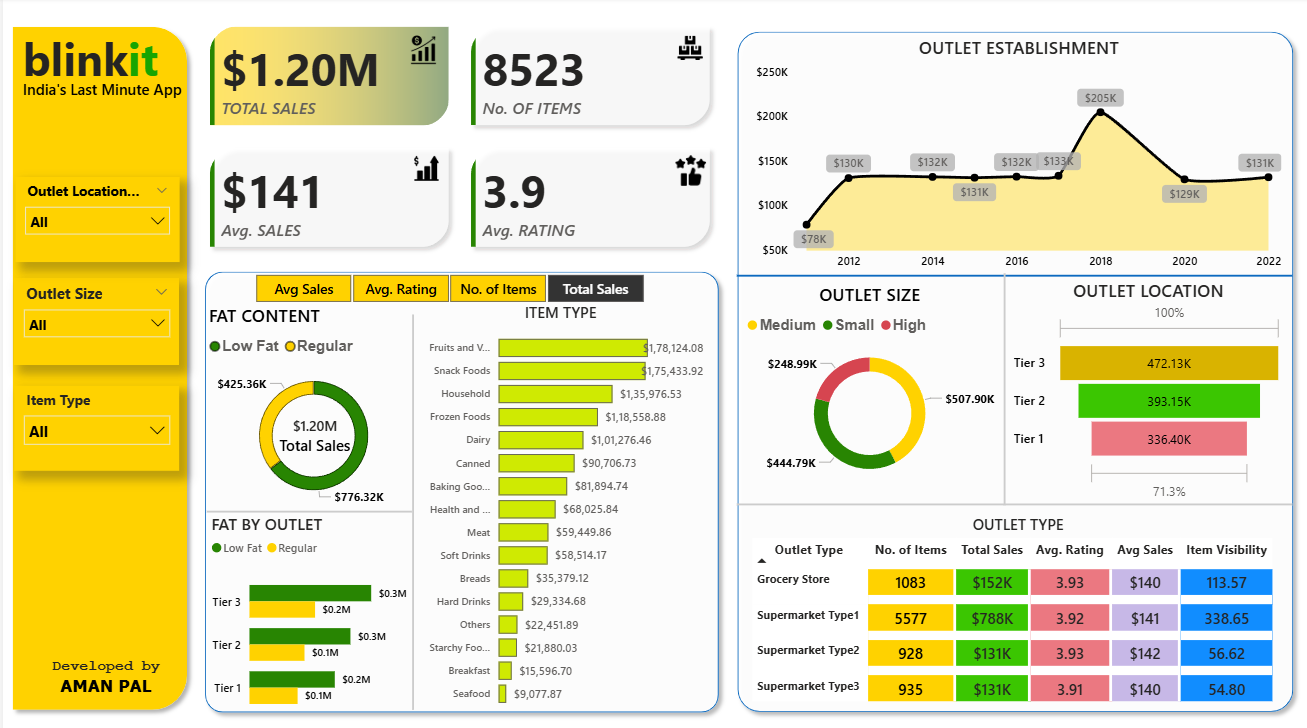

The page's visual inventory and layout, read from the dashboard file:
{"tool":"powerbi","page":{"name":"Page 1","canvas":[1400,800],"ordinal":0},"visuals":[{"type":"shape","box":[1.3,22.8,205.1,750.7],"z":0},{"type":"textbox","box":[16.5,28.5,430.7,96.1],"z":1000},{"type":"textbox","box":[16.7,82.5,189.2,31.7],"z":2000},{"type":"cardVisual","fields":{"Data":["BlinkIT Grocery Data.Total Sales","BlinkIT Grocery Data.No. of Items","BlinkIT Grocery Data.Avg Sales","BlinkIT Grocery Data.Avg. Rating"]},"box":[205.6,15,570.3,270.2],"z":3000},{"type":"shape","box":[207.1,285.2,568.8,490.8],"z":4000},{"type":"slicer","fields":{"Values":["Metrix.Metrix"]},"box":[245.9,291.2,465.3,40.6],"z":5000},{"type":"donutChart","title":"FAT CONTENT","fields":{"Y":["BlinkIT Grocery Data.Total Sales"],"Category":["BlinkIT Grocery Data.Item Fat Content"]},"box":[216.2,328.8,235,227.5],"z":6000},{"type":"cardVisual","fields":{"Data":["BlinkIT Grocery Data.Total Sales"]},"box":[278.6,410,111.4,120],"z":7000},{"type":"clusteredBarChart","title":"FAT BY OUTLET","fields":{"Y":["BlinkIT Grocery Data.Total Sales"],"Category":["BlinkIT Grocery Data.Outlet Location Type"],"Series":["BlinkIT Grocery Data.Item Fat Content"]},"box":[218.6,554.3,220,230],"z":8000},{"type":"shape","box":[218.3,416.7,220,270],"z":9000},{"type":"shape","box":[330,340,220,424.3],"z":10000},{"type":"barChart","title":"ITEM TYPE","fields":{"Y":["BlinkIT Grocery Data.Total Sales"],"Category":["BlinkIT Grocery Data.Item Type"]},"box":[440,326.7,316.7,445],"z":11000},{"type":"shape","box":[778.9,28.5,613.9,747.4],"z":12000},{"type":"lineChart","title":"OUTLET ESTABLISHMENT","fields":{"Category":["BlinkIT Grocery Data.Outlet Establishment Year"],"Y":["BlinkIT Grocery Data.Total Sales"]},"box":[803,42,573.3,259.6],"z":13000},{"type":"shape","box":[786.5,148.6,595.8,300.2],"z":14000},{"type":"donutChart","title":"OUTLET SIZE","fields":{"Y":["BlinkIT Grocery Data.Total Sales"],"Category":["BlinkIT Grocery Data.Outlet Size"]},"box":[792.5,306.2,274.7,225.1],"z":15000},{"type":"shape","box":[963.6,295.7,220.6,249.1],"z":16000},{"type":"funnel","title":"OUTLET LOCATION","fields":{"Y":["Sum(BlinkIT Grocery Data.Sales)"],"Category":["BlinkIT Grocery Data.Outlet Location Type"]},"box":[1079.1,301.7,298.7,243.1],"z":17000},{"type":"pivotTable","title":"OUTLET TYPE","fields":{"Values":["BlinkIT Grocery Data.No. of Items","BlinkIT Grocery Data.Total Sales","BlinkIT Grocery Data.Avg. Rating","BlinkIT Grocery Data.Avg Sales","Sum(BlinkIT Grocery Data.Item Visibility)"],"Rows":["BlinkIT Grocery Data.Outlet Type"]},"box":[798.5,553.8,579.3,207.1],"z":18000},{"type":"shape","box":[786.5,420.2,595.8,249.1],"z":19000},{"type":"slicer","fields":{"Values":["BlinkIT Grocery Data.Outlet Location Type"]},"box":[13.5,193.6,175.6,91.6],"z":20000},{"type":"slicer","fields":{"Values":["BlinkIT Grocery Data.Outlet Size"]},"box":[12,301.7,177.1,93.1],"z":21000},{"type":"slicer","fields":{"Values":["BlinkIT Grocery Data.Item Type"]},"box":[12,417.2,177.1,91.6],"z":22000},{"type":"textbox","box":[5.4,702.4,210.5,59],"z":22001},{"type":"image","box":[425,35.8,52.5,40.8],"z":22002},{"type":"image","box":[719.2,35.8,37.5,36.7],"z":22003},{"type":"image","box":[428.3,165,50,37.5],"z":22004},{"type":"image","box":[713.1,164.9,48.3,42.9],"z":22005}]}

Visuals, with their boxes in screenshot pixels (x1, y1, x2, y2), scaled from the page's 1400x800 canvas onto the 1307x728 screenshot:
shape: 1:21:193:704
textbox: 15:26:417:113
textbox: 16:75:192:104
cardVisual - BlinkIT Grocery Data.Total Sales x BlinkIT Grocery Data.No. of Items: 192:14:724:260
shape: 193:260:724:706
slicer - Metrix.Metrix: 230:265:664:302
"FAT CONTENT" donutChart: 202:299:421:506
cardVisual - BlinkIT Grocery Data.Total Sales: 260:373:364:482
"FAT BY OUTLET" clusteredBarChart: 204:504:409:714
shape: 204:379:409:625
shape: 308:309:513:696
"ITEM TYPE" barChart: 411:297:706:702
shape: 727:26:1300:706
"OUTLET ESTABLISHMENT" lineChart: 750:38:1285:274
shape: 734:135:1290:408
"OUTLET SIZE" donutChart: 740:279:996:483
shape: 900:269:1106:496
"OUTLET LOCATION" funnel: 1007:275:1286:496
"OUTLET TYPE" pivotTable: 745:504:1286:692
shape: 734:382:1290:609
slicer - BlinkIT Grocery Data.Outlet Location Type: 13:176:177:260
slicer - BlinkIT Grocery Data.Outlet Size: 11:275:177:359
slicer - BlinkIT Grocery Data.Item Type: 11:380:177:463
textbox: 5:639:202:693
image: 397:33:446:70
image: 671:33:706:66
image: 400:150:447:184
image: 666:150:711:189
